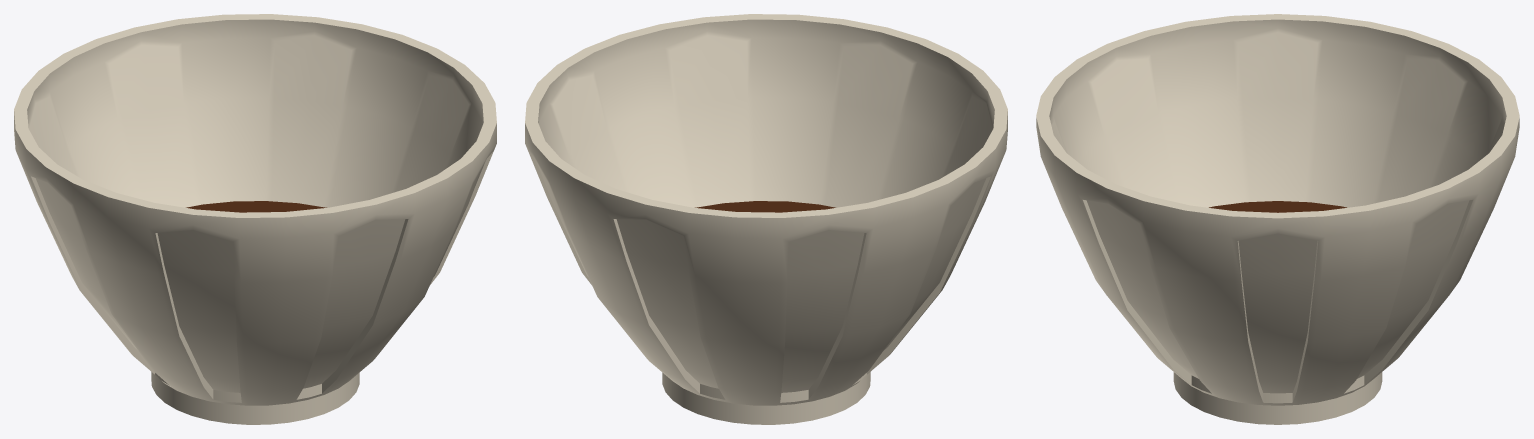
Rendered from TeaCup_OneThird.glb.
The picture shows the model from 3 angles, left to right: view 1: azimuth 30°, elevation 25°; view 2: azimuth 150°, elevation 25°; view 3: azimuth 270°, elevation 25°; orthographic projection.
Visible parts, largest first — view 1: TeaCup_OneThird; view 2: TeaCup_OneThird; view 3: TeaCup_OneThird.
Boxes of the visible parts, x1=… form: TeaCup_OneThird: x1=14, y1=14, x2=496, y2=424; TeaCup_OneThird: x1=525, y1=14, x2=1007, y2=424; TeaCup_OneThird: x1=1036, y1=14, x2=1519, y2=424.
Size of the model in its own units: 2.21 by 1.34 by 2.21.
1 material, 1 textured.
